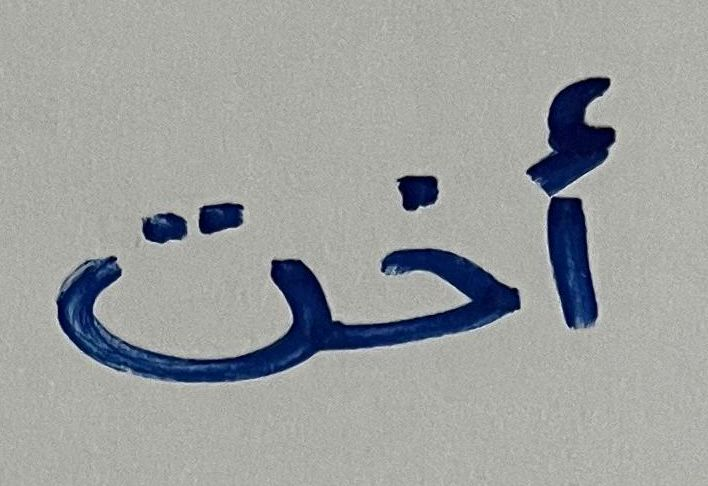hamza: (523, 68, 641, 358)
khah: (335, 159, 516, 361)
teh: (29, 177, 332, 399)
